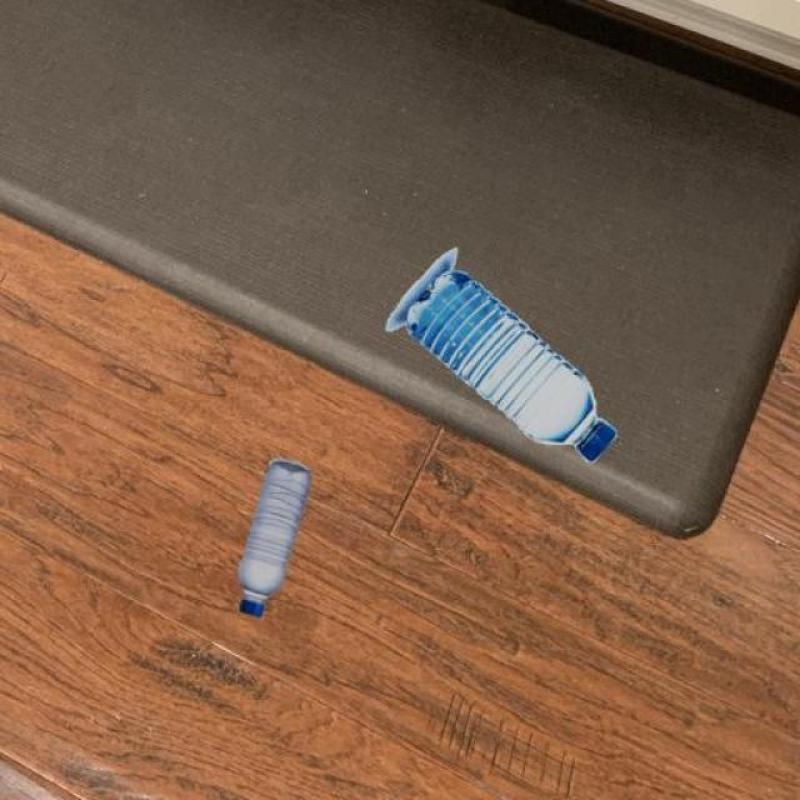botella: (406, 270, 619, 466), (233, 460, 312, 620)
